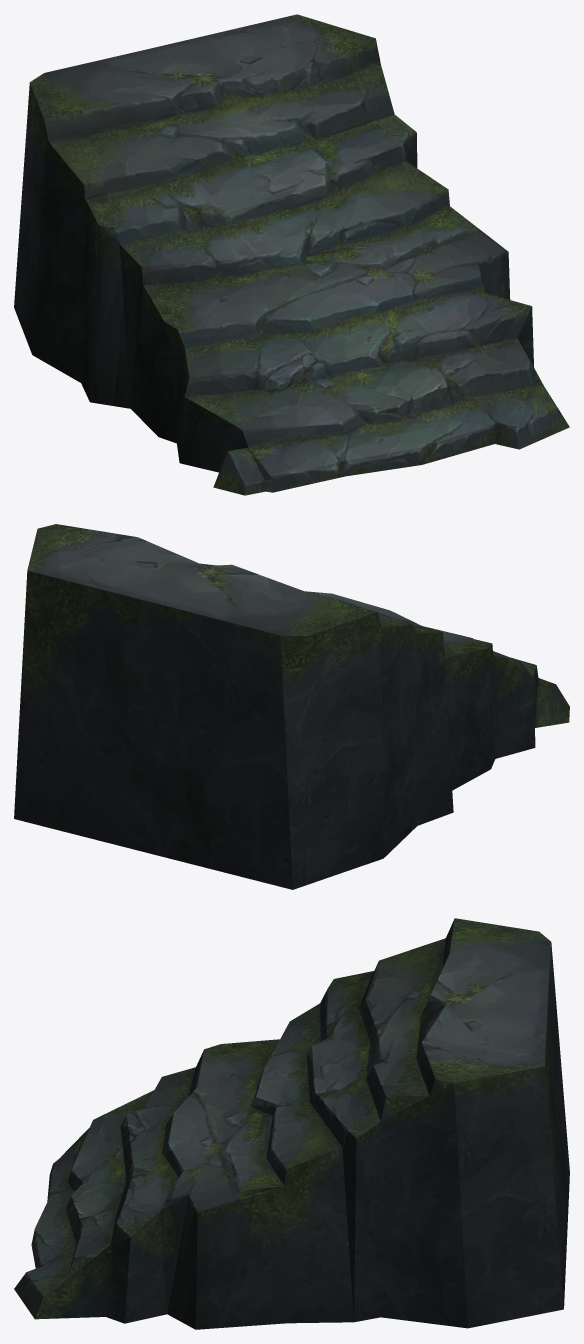
Rendered from fb_qingqs_zj_09.FBX.
3 renders of one model, top to bottom at view 1: azimuth 30°, elevation 25°; view 2: azimuth 150°, elevation 25°; view 3: azimuth 270°, elevation 25°, orthographic. The views are drawn at different scales.
Parts seen in each view (by area): view 1: fb_qingqs_zj_09; view 2: fb_qingqs_zj_09; view 3: fb_qingqs_zj_09.
Boxes of the visible parts, bbox=[...] form: fb_qingqs_zj_09: bbox=[14, 14, 569, 495]; fb_qingqs_zj_09: bbox=[14, 524, 569, 889]; fb_qingqs_zj_09: bbox=[14, 918, 569, 1329].
Bounding box in the file's own units: 625 × 397 × 828.
